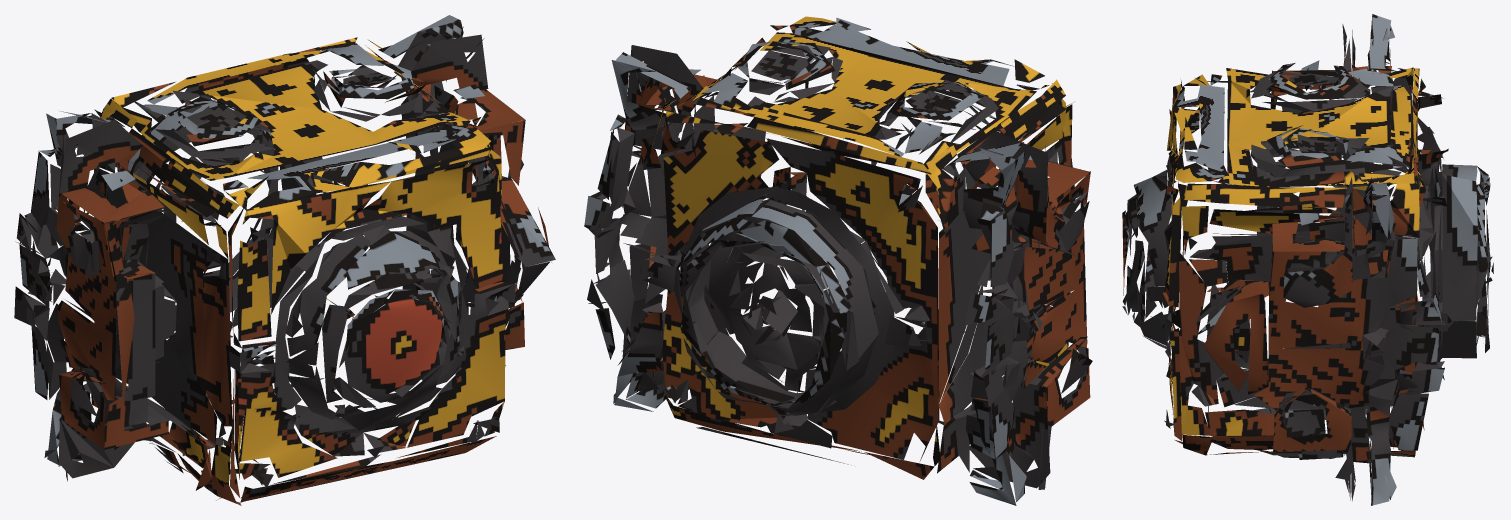
File: co_slug.glb
3 renders of one model, left to right at view 1: azimuth 30°, elevation 25°; view 2: azimuth 150°, elevation 25°; view 3: azimuth 270°, elevation 25°, orthographic. The views are drawn at different scales.
Visible parts, largest first — view 1: co_slug; view 2: co_slug; view 3: co_slug.
Part boxes in pixels (x1=…): co_slug: x1=14, y1=15, x2=555, y2=505; co_slug: x1=584, y1=16, x2=1092, y2=505; co_slug: x1=1122, y1=14, x2=1493, y2=505.
Size of the model in its own units: 0.17 by 0.1352 by 0.1425.
1 material, 1 textured.
